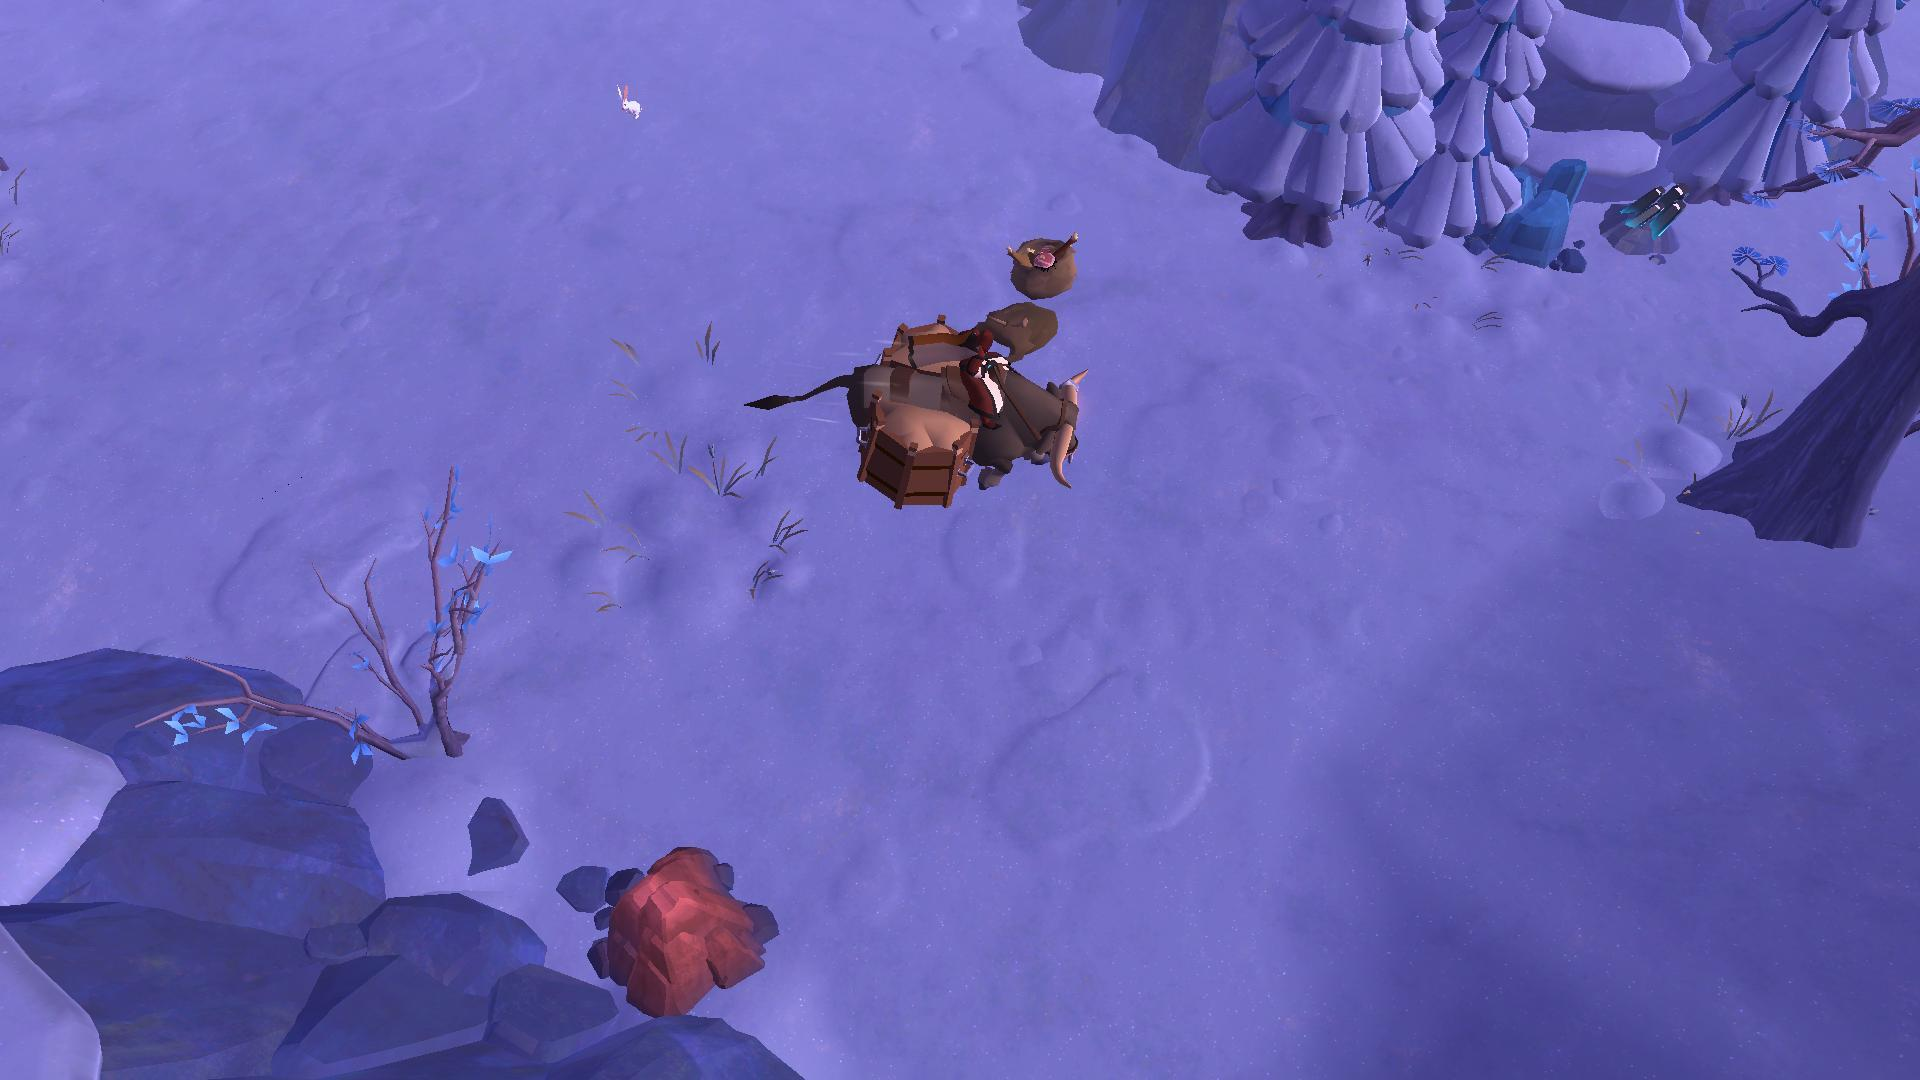ore_t4: (1619, 177, 1691, 241)
rock_t4: (1464, 149, 1588, 289)
rock_t5: (595, 848, 773, 1014)
